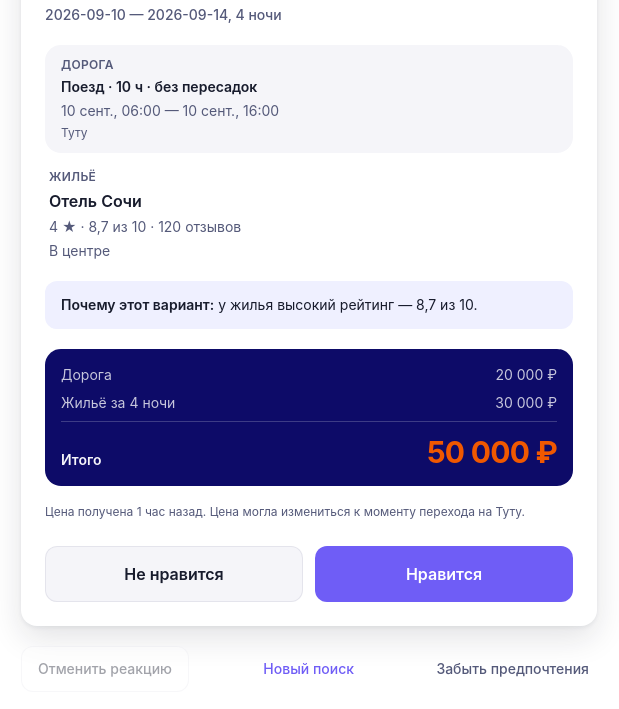
swipe feed › «Забыть предпочтения» очищает журнал реакций
(page scrolled)
Click the button "Нравится".
click(444, 574)  # box top-left (315, 546), bottom-right (573, 602)
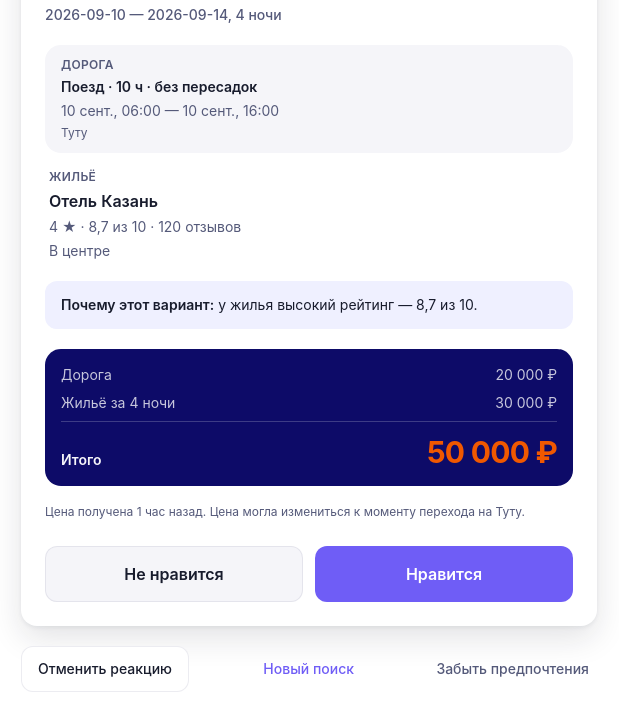
Click the button "Забыть предпочтения".
click(513, 669)  # box top-left (428, 647), bottom-right (597, 691)
(page scrolled)
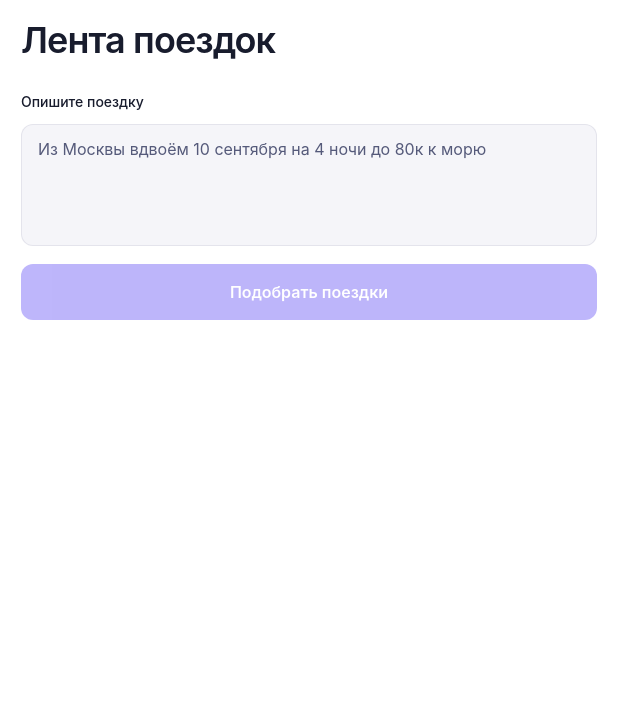
Expected: the text box labelled "Опишите поездку" is shown, top-left (21, 124), bottom-right (597, 246)
